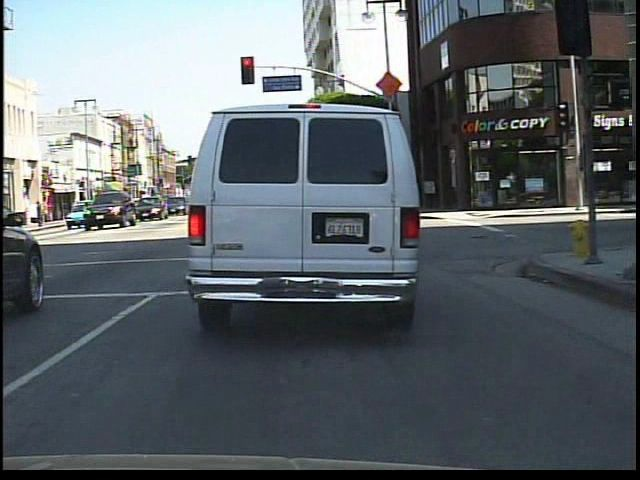person: (34, 197, 47, 229)
